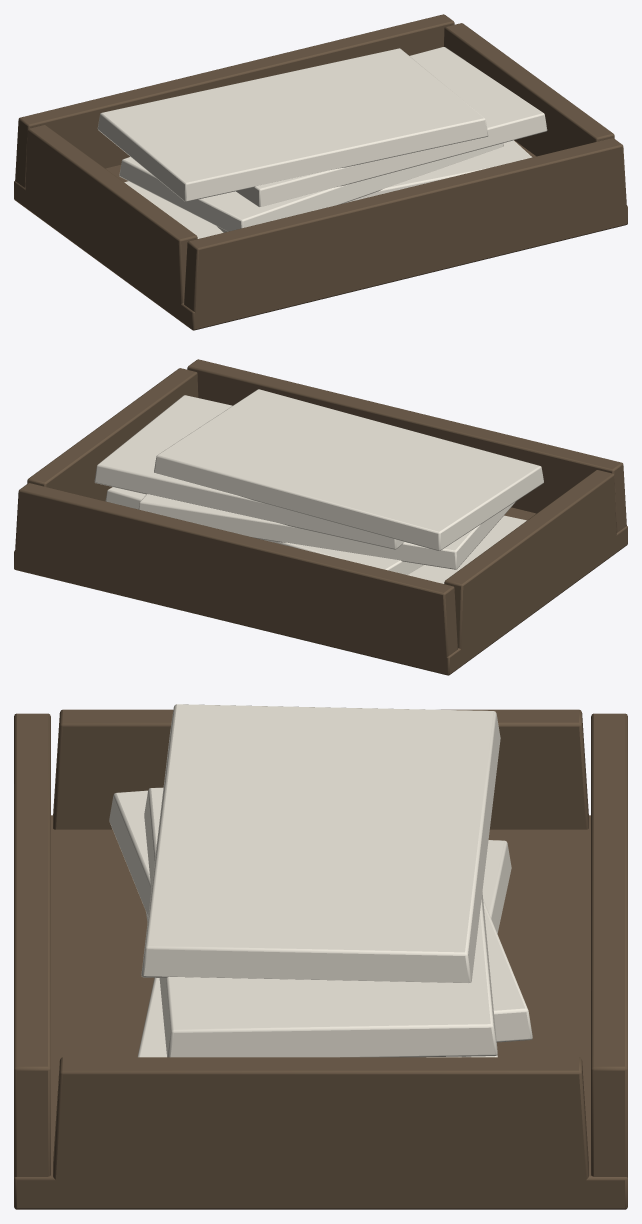
The model's file is SM_EnvelopeTray_day.glb.
3 views of the same model, one above another, from view 1: azimuth 30°, elevation 25°; view 2: azimuth 150°, elevation 25°; view 3: azimuth 270°, elevation 25° (orthographic). The views are drawn at different scales.
Parts seen in each view (by area): view 1: SM_EnvelopeTray_day; view 2: SM_EnvelopeTray_day; view 3: SM_EnvelopeTray_day.
Boxes of the visible parts, bbox=[...] form: SM_EnvelopeTray_day: bbox=[14, 14, 627, 330]; SM_EnvelopeTray_day: bbox=[14, 359, 627, 675]; SM_EnvelopeTray_day: bbox=[14, 704, 627, 1209].
Size of the model in its own units: 0.28 by 0.0638 by 0.2.
